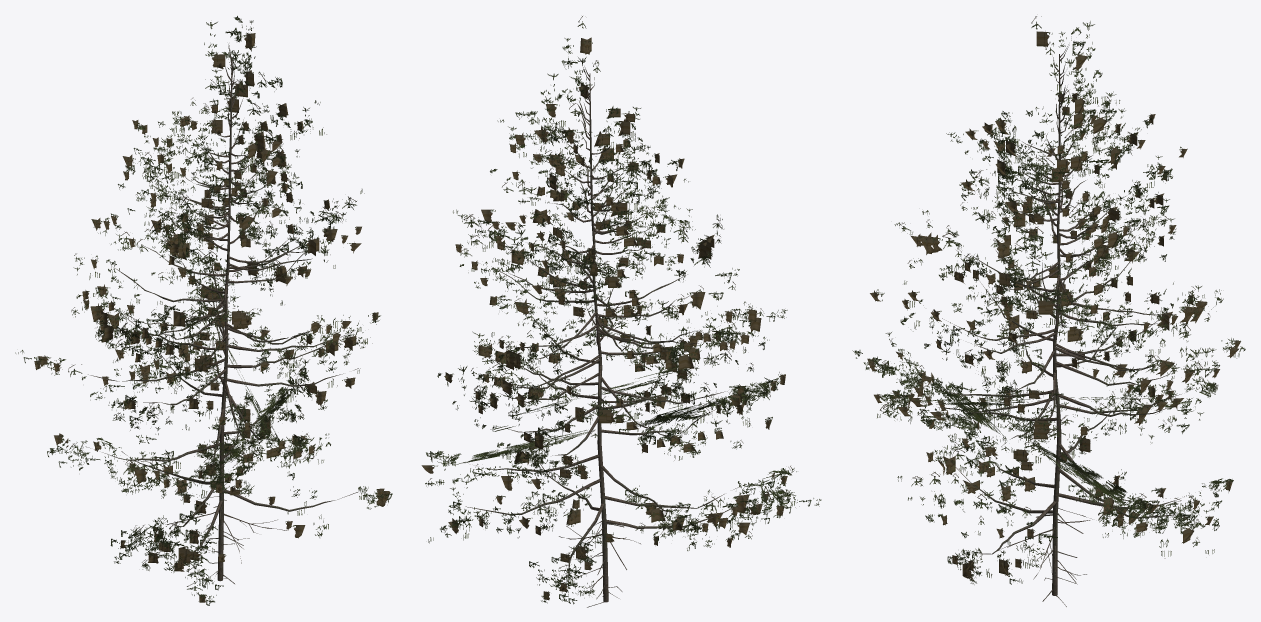
Rendered from evergreen.light.glb.
3 renders of one model, left to right at view 1: azimuth 30°, elevation 25°; view 2: azimuth 150°, elevation 25°; view 3: azimuth 270°, elevation 25°, orthographic. The views are drawn at different scales.
Parts seen in each view (by area): view 1: fir_sapling_medium_a_LOD0; view 2: fir_sapling_medium_a_LOD0; view 3: fir_sapling_medium_a_LOD0.
Part boxes in pixels (<box>): fir_sapling_medium_a_LOD0: <box>15,16,392,605</box>; fir_sapling_medium_a_LOD0: <box>421,16,821,607</box>; fir_sapling_medium_a_LOD0: <box>852,16,1245,606</box>.
Size of the model in its own units: 3.8 by 6.67 by 3.98.
3 materials, 3 textured.
